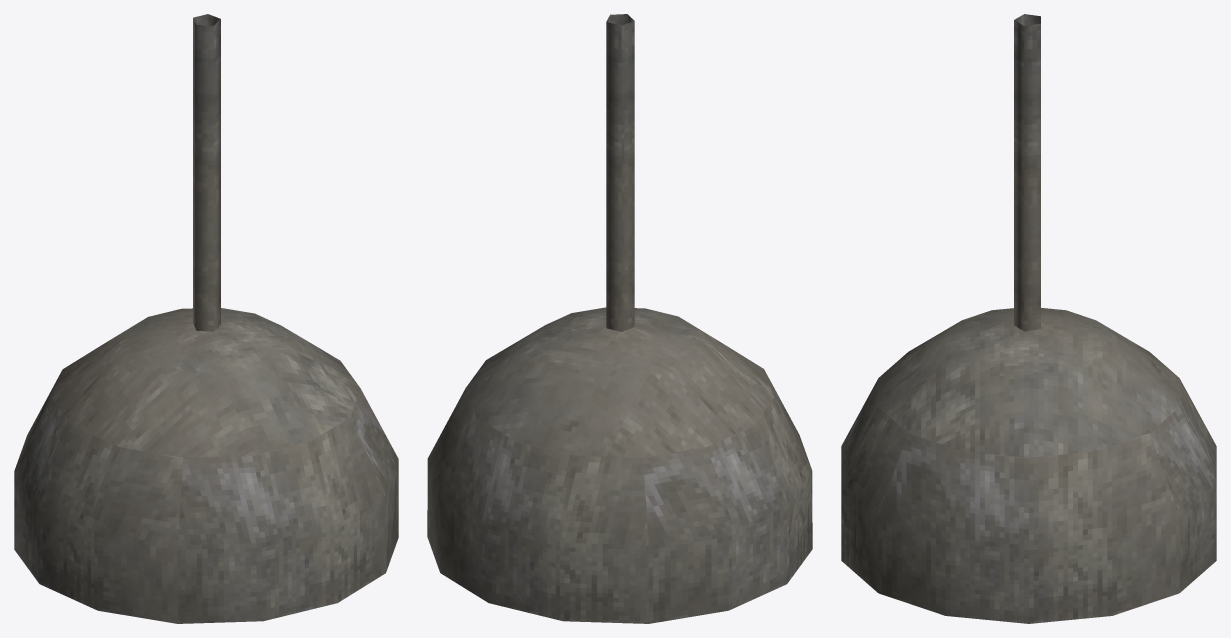
File: _BigLamp_1.FBX
The picture shows the model from 3 angles, left to right: view 1: azimuth 30°, elevation 25°; view 2: azimuth 150°, elevation 25°; view 3: azimuth 270°, elevation 25°; orthographic projection.
Parts seen in each view (by area): view 1: _BigLamp_1; view 2: _BigLamp_1; view 3: _BigLamp_1.
Part boxes in pixels (x1=…): _BigLamp_1: x1=14, y1=14, x2=398, y2=623; _BigLamp_1: x1=427, y1=14, x2=812, y2=623; _BigLamp_1: x1=841, y1=14, x2=1216, y2=623.
Bounding box in the file's own units: 90.74 × 136 × 88.47.
Materials: 2 (1 with a texture image).
